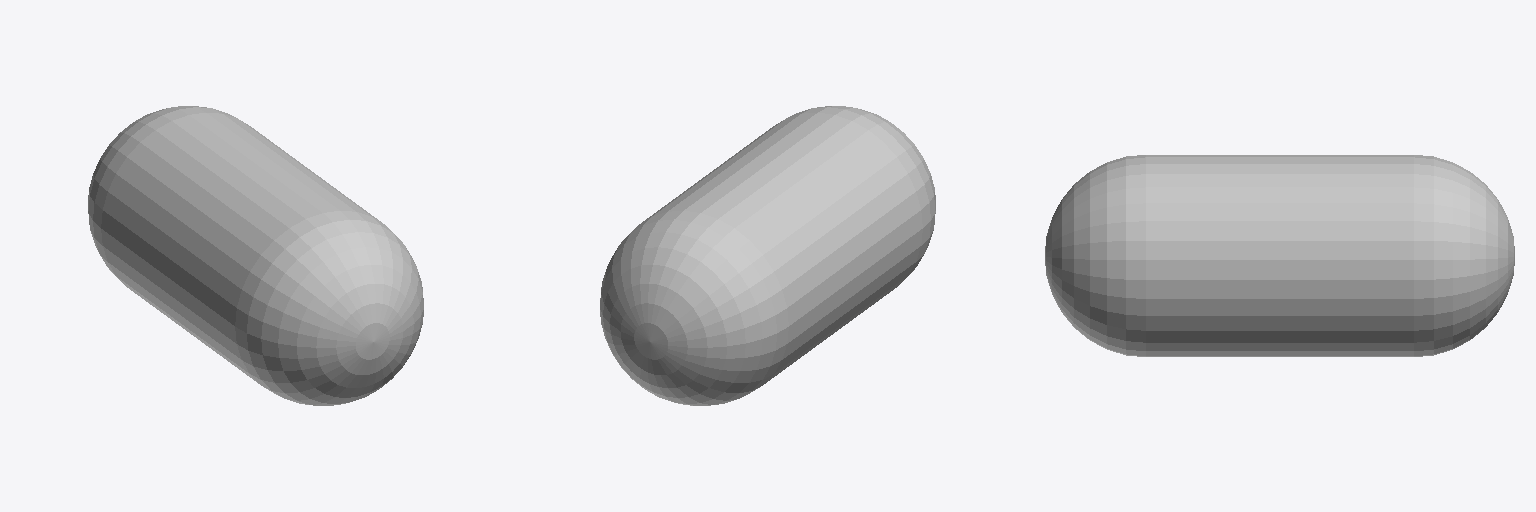
The model's file is laser2.obj.
The picture shows the model from 3 angles: view 1: azimuth 30°, elevation 25°; view 2: azimuth 150°, elevation 25°; view 3: azimuth 270°, elevation 25°; orthographic projection.
Parts seen in each view (by area): view 1: Sphere; view 2: Sphere; view 3: Sphere.
Part boxes in pixels (x1,y1,x2,y2): Sphere: (88, 106, 423, 405); Sphere: (600, 106, 935, 405); Sphere: (1045, 155, 1514, 356).
Size of the model in its own units: 2 by 2 by 4.64.